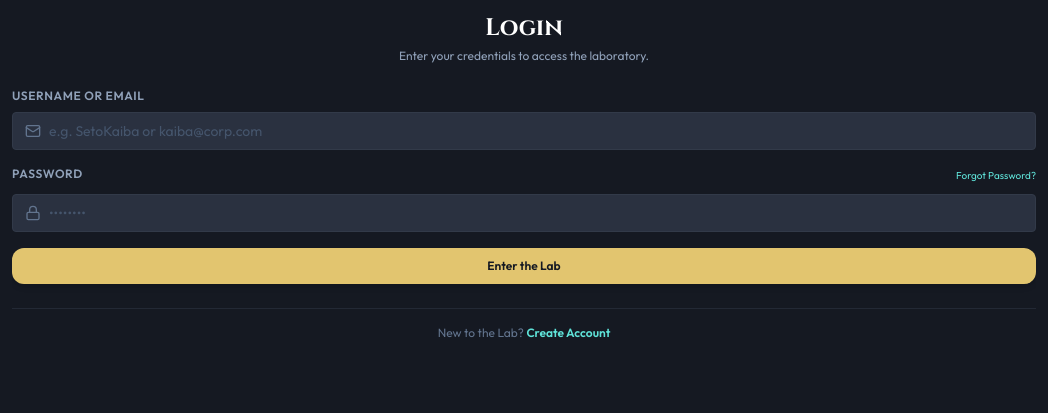
Scenario: Login page component › should render error message when login fails
Type "kaiba" into the field with placeholder "e.g. SetoKaiba or kaiba@corp.com" at (536, 131), box [49, 121, 1023, 141]
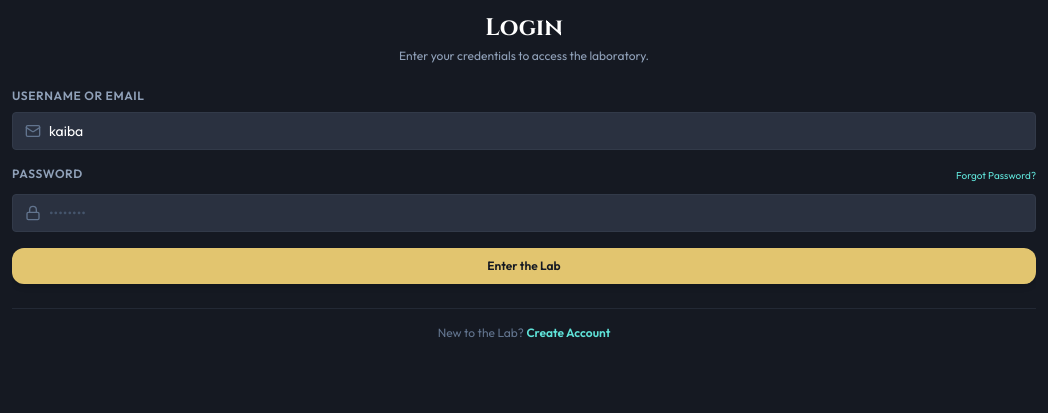
Type "wrong" into the password field with placeholder "••••••••" at (536, 213), box [49, 203, 1023, 223]
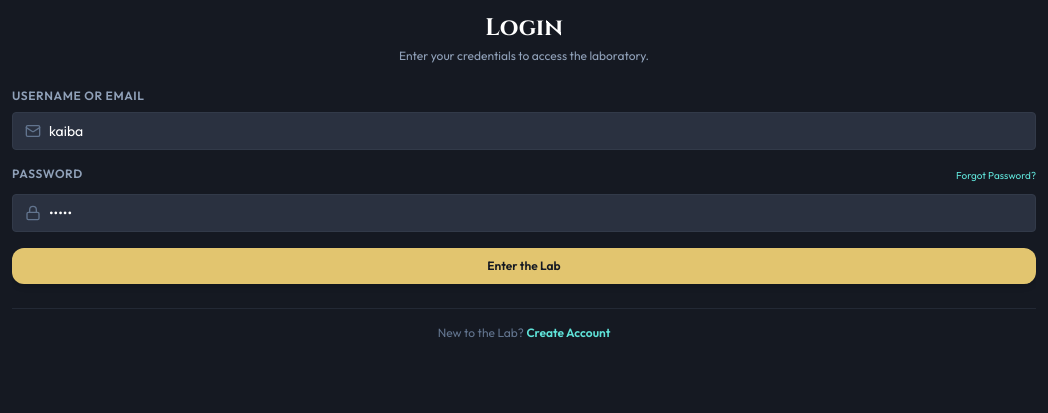
Click the button "Enter the Lab" at (524, 266), box [12, 248, 1036, 284]
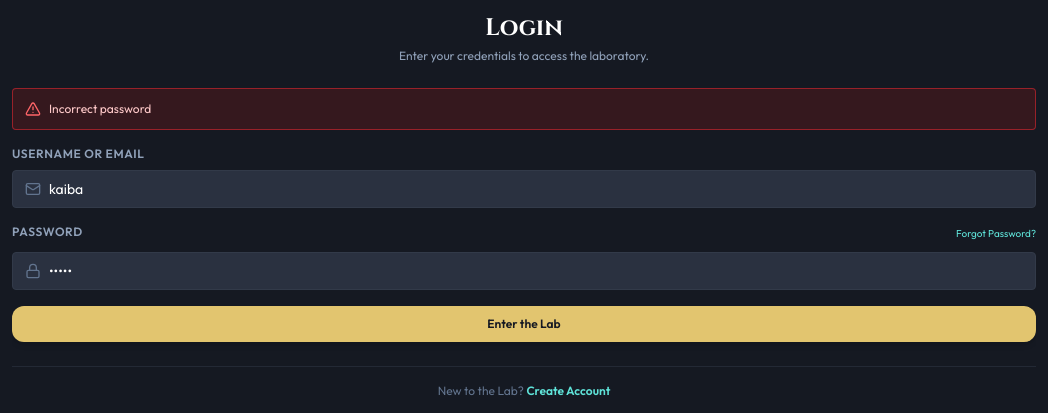
expect the text "Incorrect password" is shown: met, box [49, 101, 151, 117]
